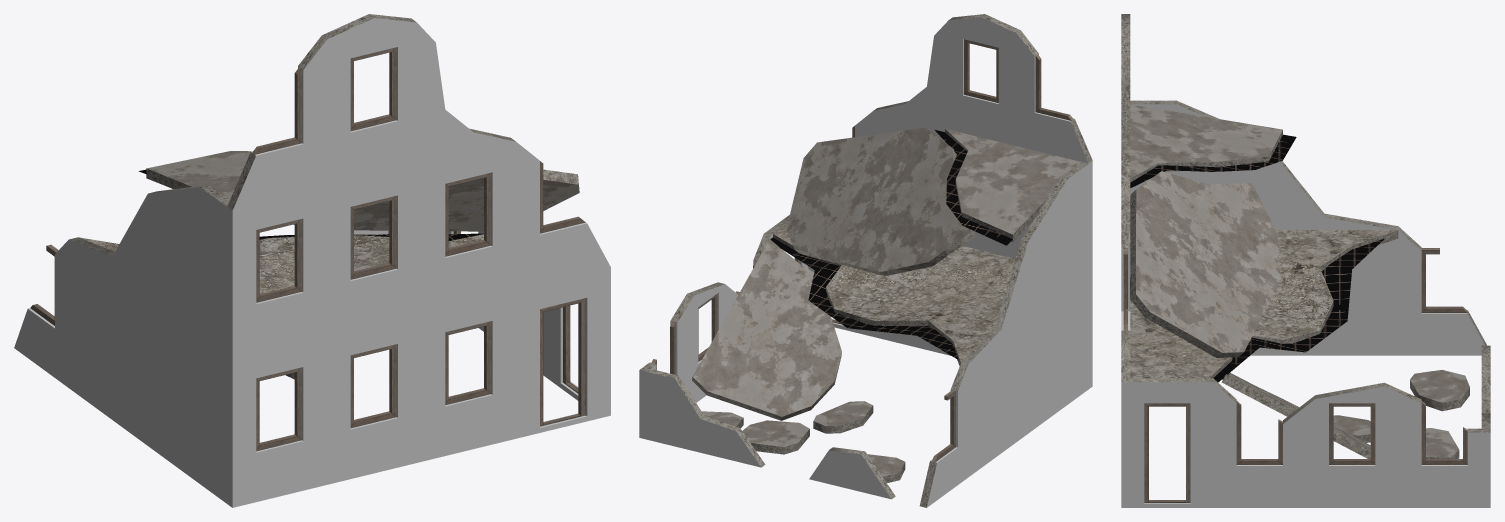
Rendered from Building_G_Destroyed.fbx.
The picture shows the model from 3 angles, left to right: view 1: azimuth 30°, elevation 25°; view 2: azimuth 150°, elevation 25°; view 3: azimuth 270°, elevation 25°; orthographic projection. The views are drawn at different scales.
Parts seen in each view (by area): view 1: Walls, Windows, Floors_Top, Floor_Bottom, Broken_Concrete; view 2: Walls, Floors_Top, Rubble, Floor_Bottom, Broken_Concrete, Rebar (×2), Windows; view 3: Walls, Floors_Top, Broken_Concrete, Floor_Bottom, Windows, Rebar (×2), Rubble.
Boxes of the visible parts, x1,y1,x2,y2 form: Walls: (14,18,610,507); Windows: (30,47,585,451); Floors_Top: (147,151,579,231); Floor_Bottom: (79,234,483,294); Broken_Concrete: (69,14,579,379); Walls: (639,17,1092,507); Floors_Top: (786,127,1080,271); Rubble: (692,239,904,476); Floor_Bottom: (773,223,1015,362); Broken_Concrete: (639,14,1092,507); Rebar (×2): (770,129,1012,359); Windows: (651,39,1073,462); Walls: (1121,104,1490,507); Floors_Top: (1130,104,1282,352); Broken_Concrete: (1121,14,1490,458); Floor_Bottom: (1130,230,1397,378); Windows: (1123,248,1467,502); Rebar (×2): (1130,134,1383,382); Rubble: (1226,370,1469,457).
Size of the model in its own units: 800 by 920 by 800.
